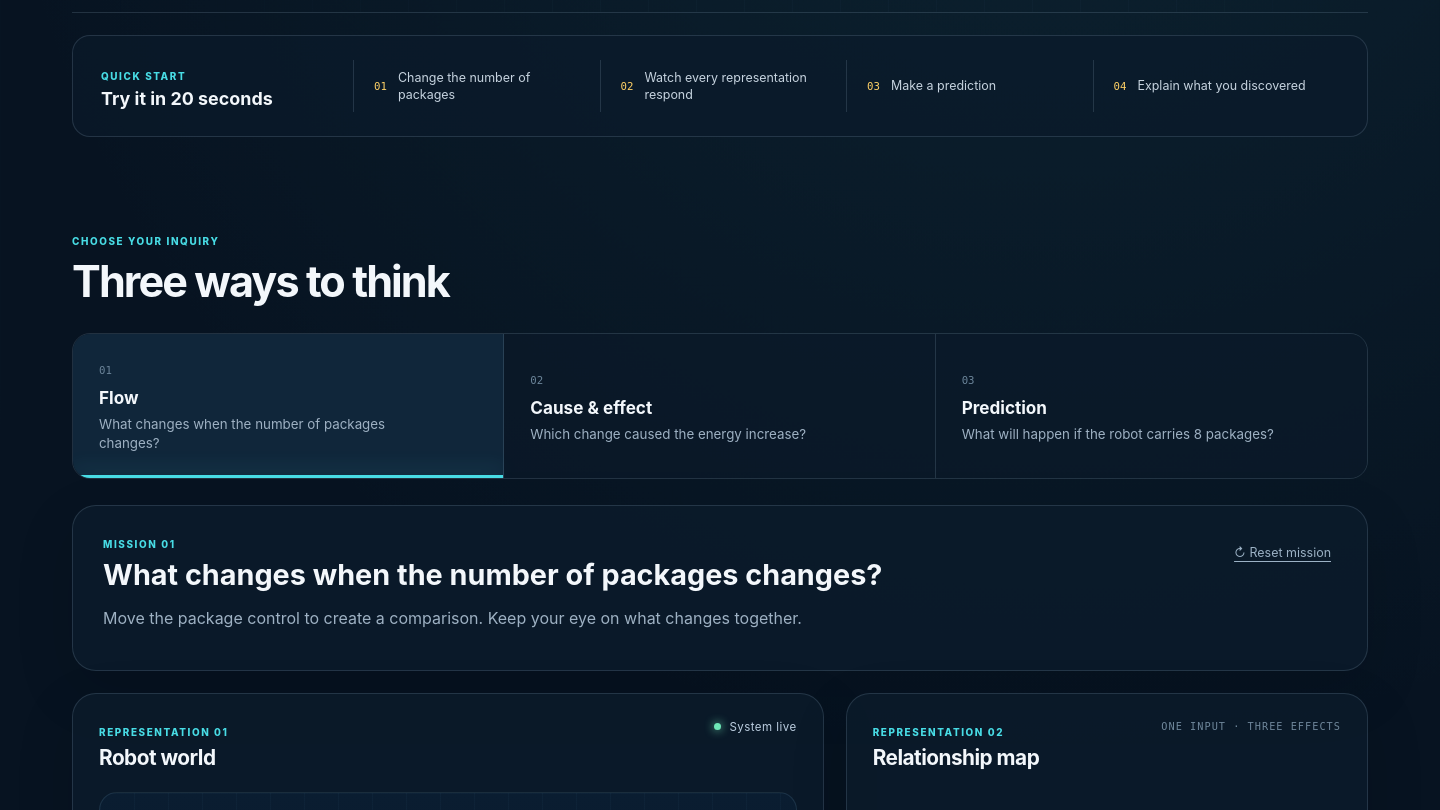
Test: Relationship Lab interactions › switches missions using accessible tabs
(page scrolled)
Step 1. Click the tab "02 Cause & effect Which change caused the energy increase?" → (591, 407), box [504, 334, 936, 478]
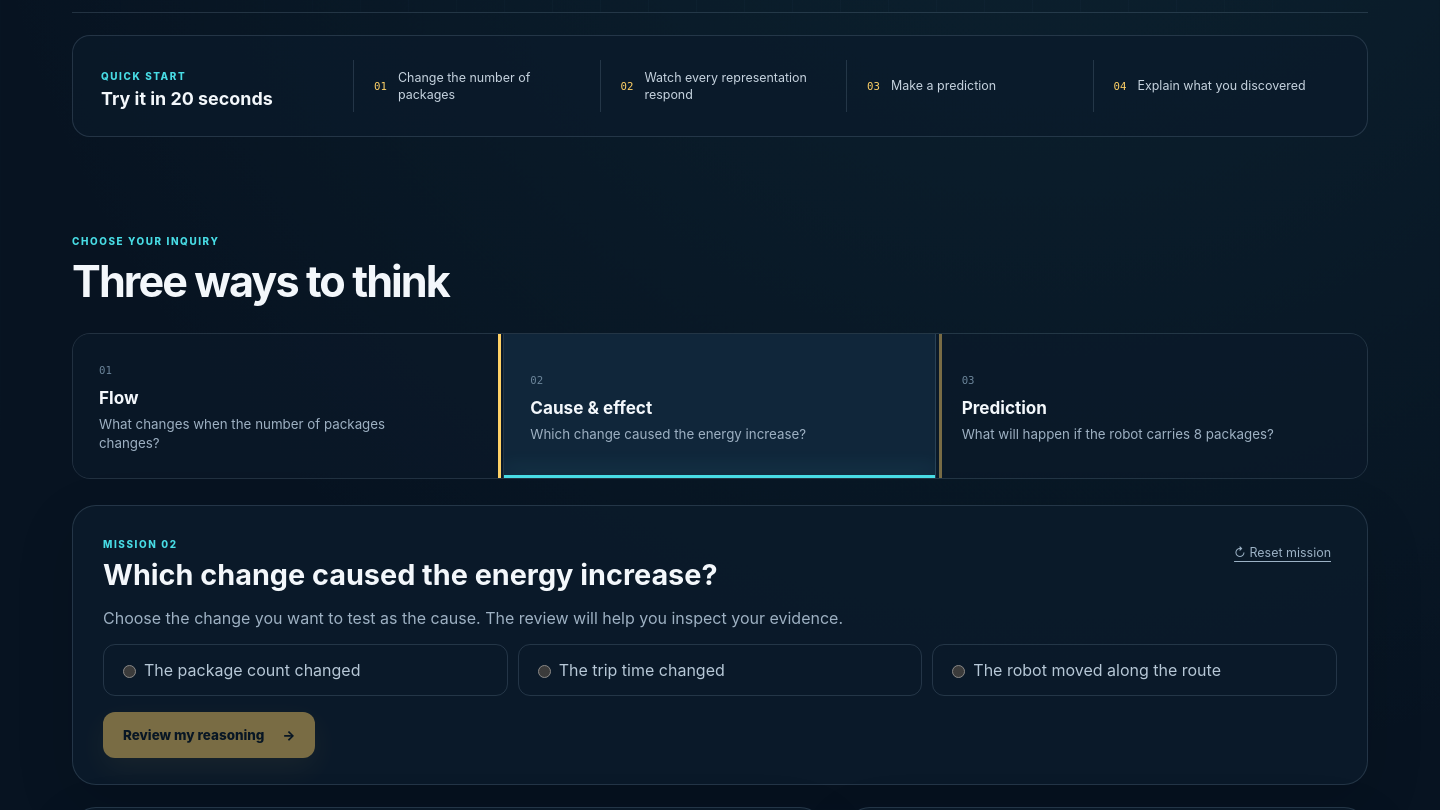
Check: the text "Choose the change you want to test" is shown, box [103, 608, 843, 628]
